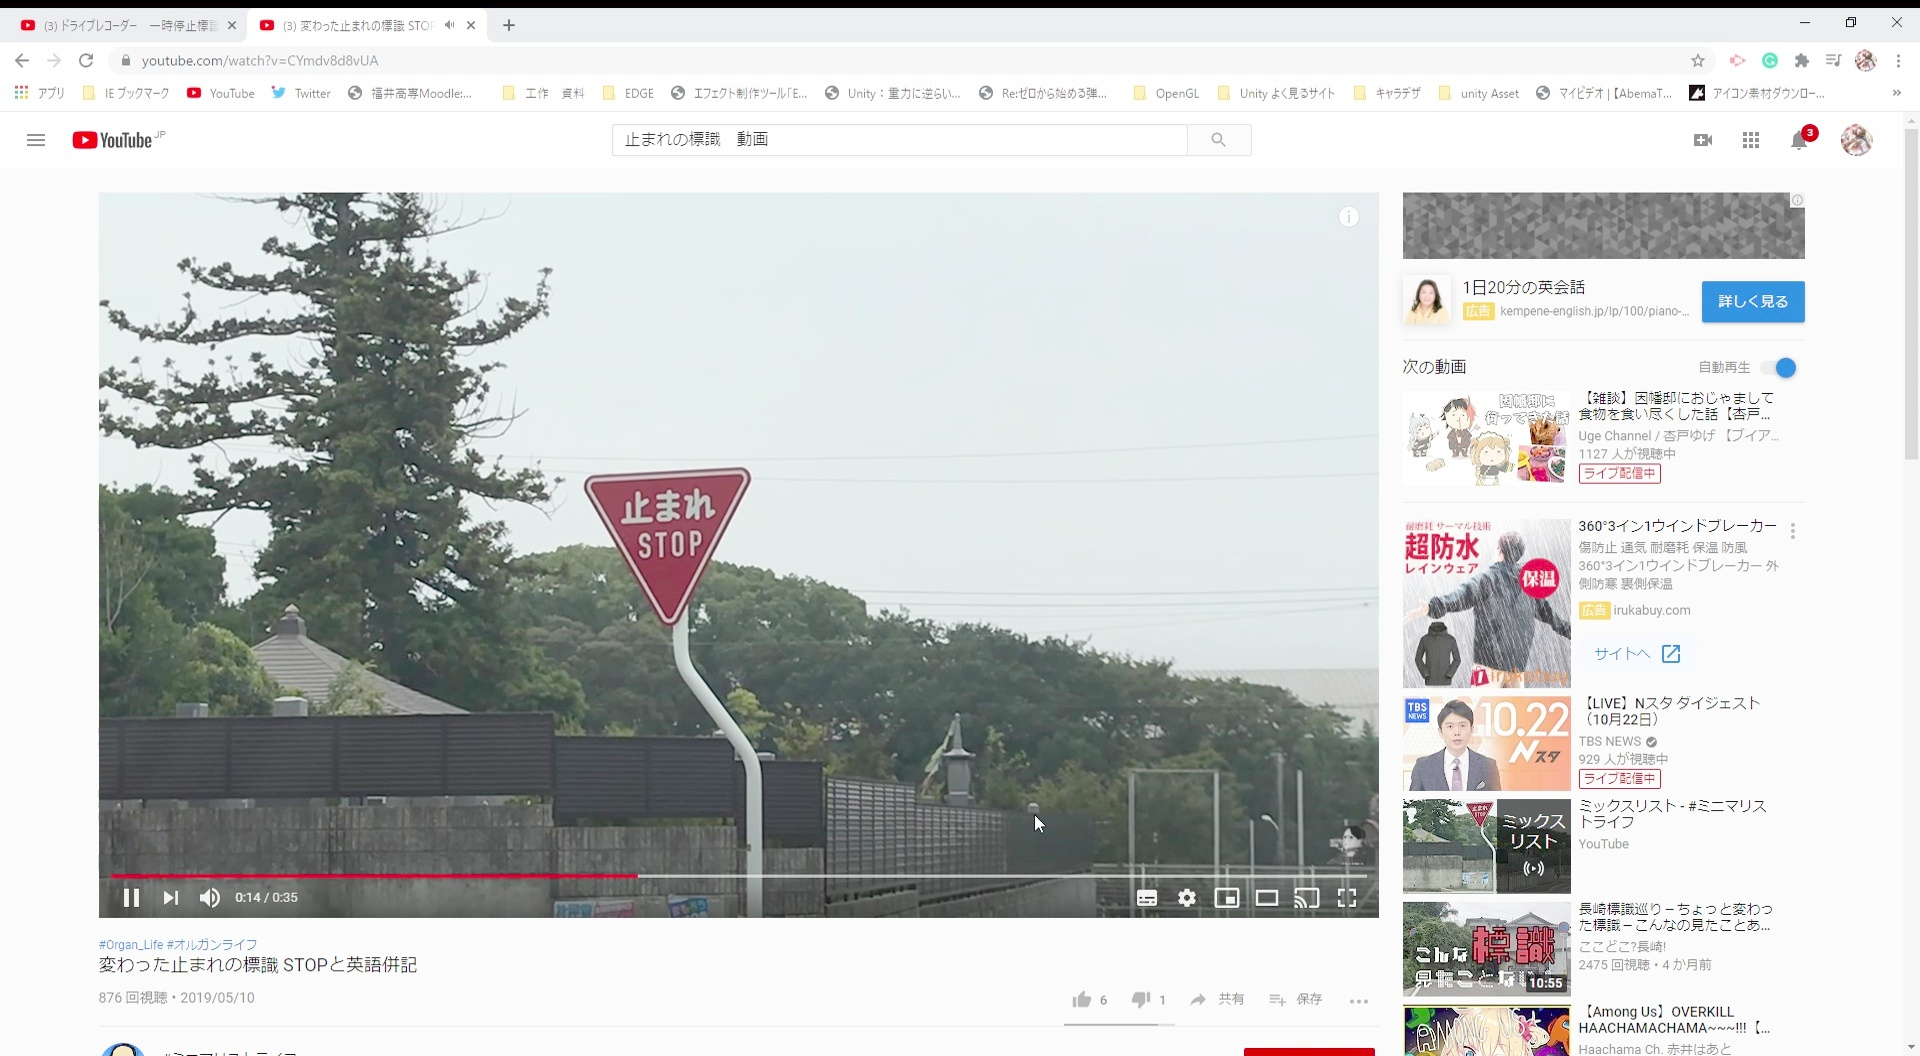Regulatory_sign_triangle: (552, 442, 776, 635)
